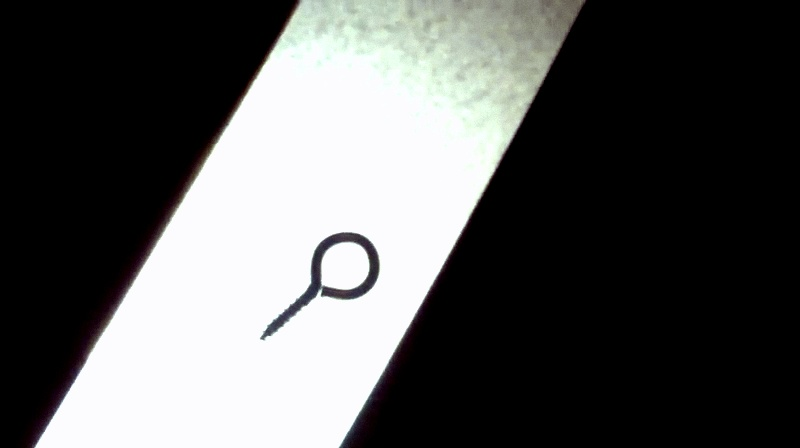O001: (254, 228, 383, 349)
